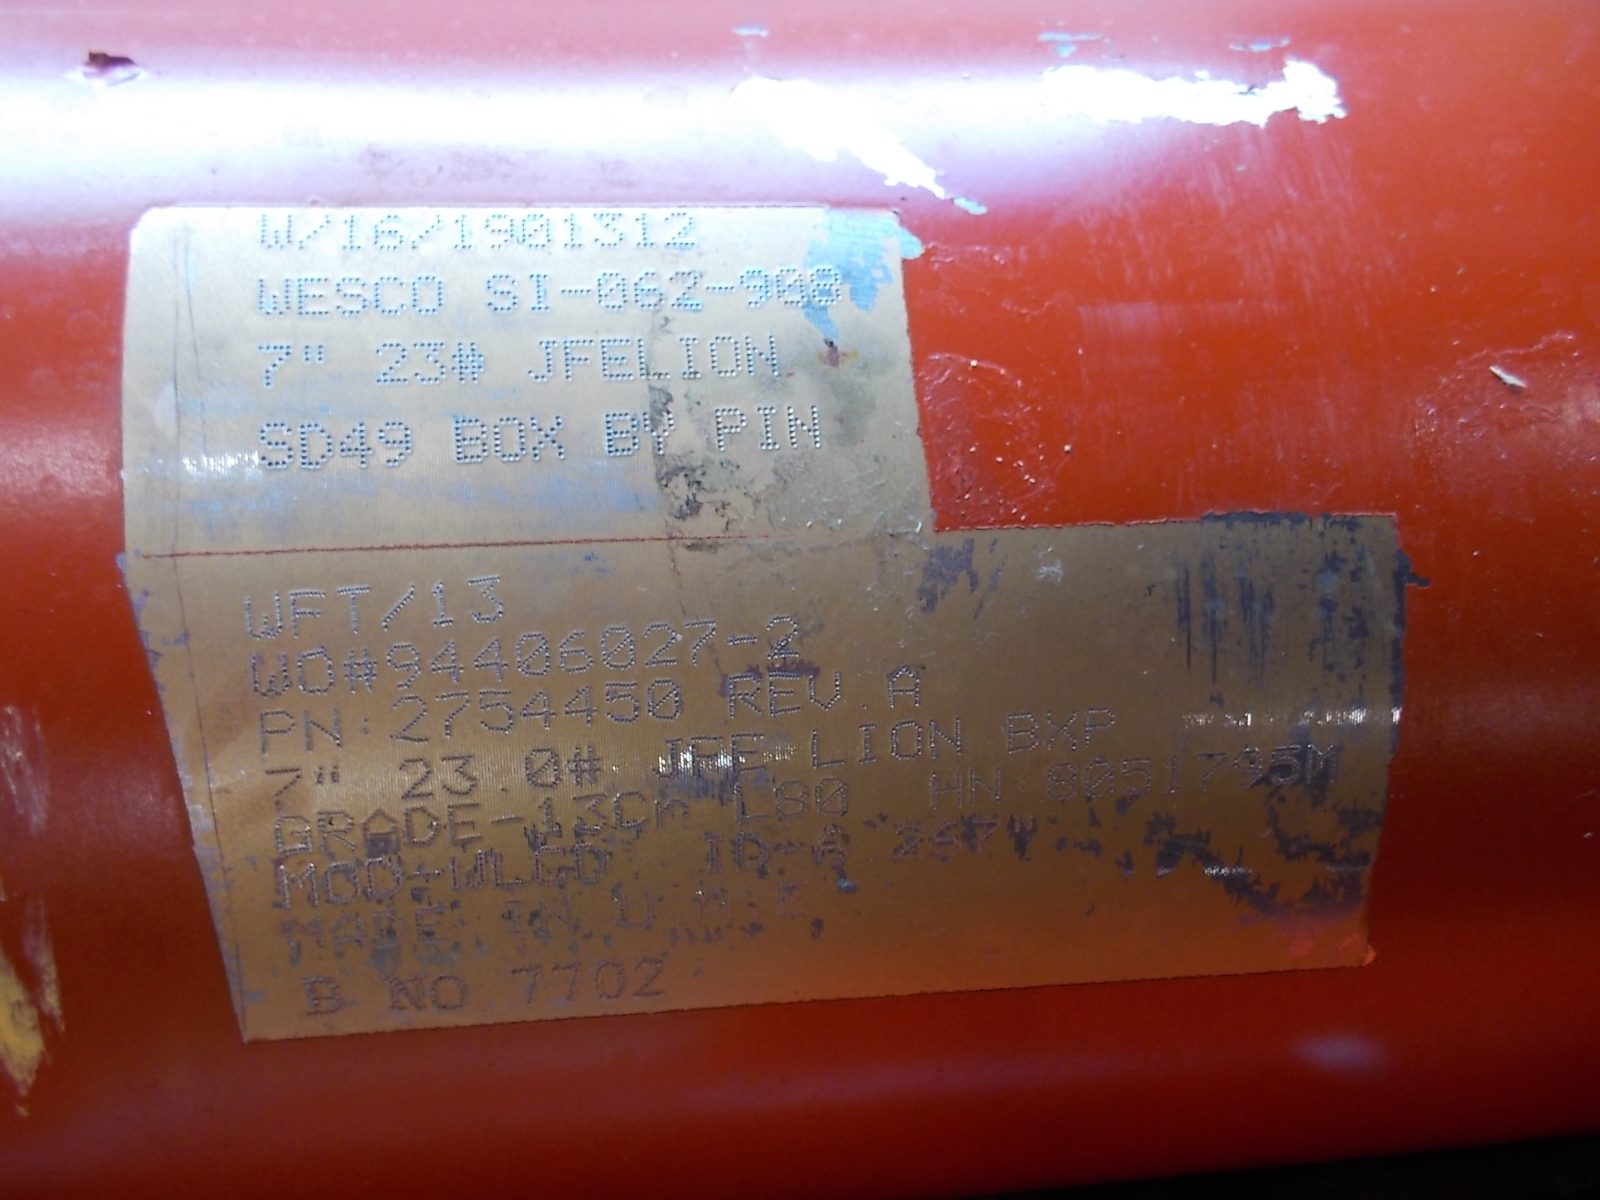character: (464, 563, 511, 632), (877, 655, 934, 712), (1306, 737, 1356, 800), (761, 613, 816, 668), (296, 971, 354, 1024), (234, 587, 285, 645), (380, 634, 430, 693), (285, 581, 329, 645), (244, 647, 294, 703), (384, 691, 433, 747), (745, 326, 792, 384), (299, 702, 346, 760), (375, 579, 425, 634), (559, 737, 611, 789), (277, 913, 330, 963), (636, 618, 687, 669), (373, 417, 421, 471), (785, 400, 828, 460), (443, 795, 488, 853), (704, 326, 745, 389), (609, 882, 659, 933), (249, 705, 296, 759), (261, 811, 316, 856), (799, 724, 849, 773), (724, 779, 776, 827), (1082, 703, 1129, 756), (249, 340, 294, 396), (294, 647, 336, 703), (728, 726, 776, 776), (408, 270, 452, 324), (999, 705, 1043, 759), (926, 712, 970, 766), (513, 625, 553, 684), (598, 408, 641, 464), (329, 581, 372, 637), (433, 686, 475, 742), (721, 672, 769, 721), (659, 204, 706, 255), (314, 805, 360, 856), (527, 841, 573, 891), (253, 763, 307, 805), (527, 407, 566, 466), (426, 634, 467, 689), (475, 687, 517, 742), (272, 860, 320, 908), (467, 634, 513, 684), (559, 679, 600, 736), (806, 262, 850, 314), (645, 734, 689, 785), (553, 625, 596, 678), (438, 850, 491, 892), (409, 333, 449, 391), (1267, 736, 1306, 794), (595, 332, 636, 386), (747, 400, 782, 463), (367, 903, 411, 953), (711, 402, 750, 459), (450, 412, 489, 469), (569, 839, 612, 891), (295, 418, 336, 471), (727, 824, 769, 877), (598, 618, 636, 676), (357, 805, 404, 851), (404, 208, 447, 258), (367, 342, 409, 392), (587, 955, 630, 1006), (769, 664, 806, 721), (547, 955, 587, 1008), (600, 679, 644, 727), (609, 788, 653, 836), (517, 687, 559, 736), (370, 268, 408, 324), (449, 333, 489, 384), (687, 731, 727, 783), (331, 268, 370, 321), (425, 579, 464, 632), (336, 647, 380, 693), (383, 969, 430, 1013), (518, 334, 561, 382), (489, 412, 527, 466), (687, 615, 724, 669), (295, 207, 336, 256), (968, 763, 1008, 813), (810, 821, 847, 876), (1043, 705, 1082, 756), (963, 817, 1002, 868), (554, 207, 592, 260), (479, 272, 523, 318), (294, 272, 331, 325), (559, 332, 595, 388), (518, 747, 563, 792), (396, 756, 440, 802), (811, 774, 855, 819), (411, 900, 449, 953), (440, 751, 483, 798), (1039, 759, 1082, 805), (884, 718, 926, 766), (1120, 754, 1162, 802), (476, 208, 517, 257), (641, 405, 674, 465), (569, 788, 609, 838), (929, 763, 968, 813), (644, 676, 682, 727), (430, 968, 472, 1013), (671, 330, 704, 389), (401, 805, 442, 852), (336, 418, 373, 471), (665, 267, 704, 316), (254, 422, 294, 471), (321, 858, 360, 908), (771, 877, 810, 926), (592, 205, 627, 260), (636, 330, 671, 384), (256, 275, 294, 325), (653, 792, 695, 836), (528, 894, 572, 937), (806, 664, 843, 716), (330, 911, 367, 963), (772, 258, 806, 314), (505, 961, 546, 1007), (889, 821, 929, 868), (630, 957, 668, 1006), (518, 207, 554, 257), (488, 848, 528, 894), (257, 208, 295, 256), (777, 774, 811, 827), (1196, 747, 1230, 800), (596, 266, 632, 315), (690, 829, 727, 879), (854, 718, 887, 773), (364, 858, 403, 904), (1230, 747, 1267, 794), (929, 817, 963, 868), (632, 263, 665, 316), (740, 261, 771, 314), (368, 208, 404, 253), (532, 792, 567, 838), (627, 205, 659, 255), (1162, 753, 1192, 802), (1082, 763, 1116, 805), (695, 884, 736, 919), (336, 208, 367, 253), (524, 272, 556, 315), (496, 895, 528, 937), (449, 208, 474, 258), (311, 761, 350, 788), (404, 863, 443, 887), (770, 839, 810, 862), (488, 811, 529, 832), (1010, 812, 1039, 839), (724, 632, 761, 653), (559, 280, 595, 301), (300, 344, 328, 366), (703, 280, 734, 295), (357, 711, 373, 740), (494, 782, 509, 797)
